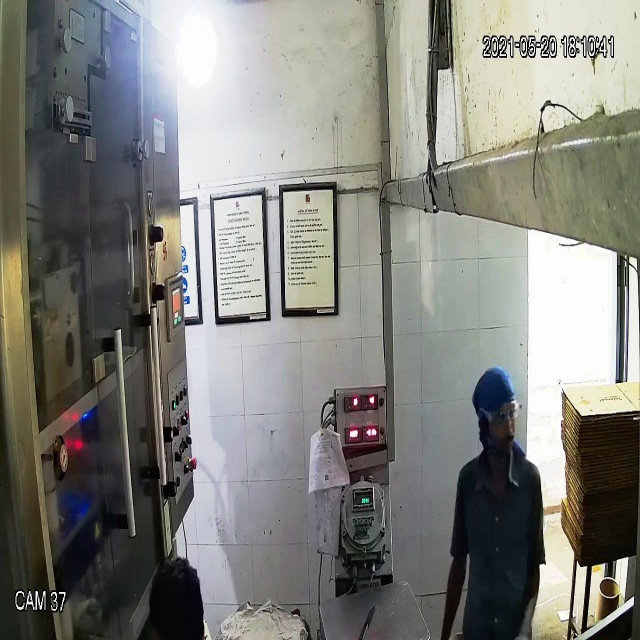Gafas: (477, 401, 522, 428)
